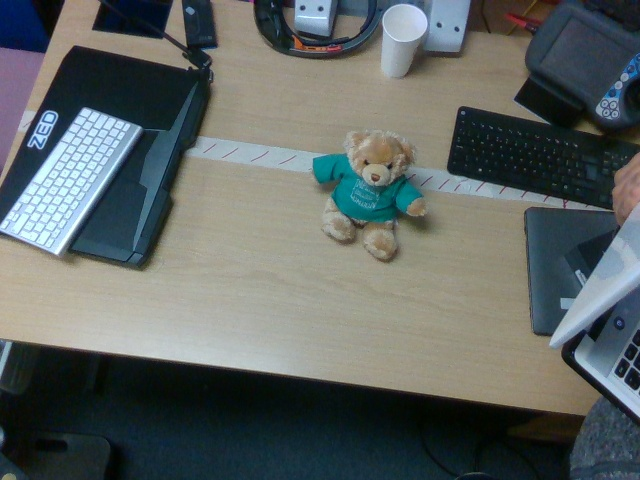teddy: (313, 131, 430, 262)
